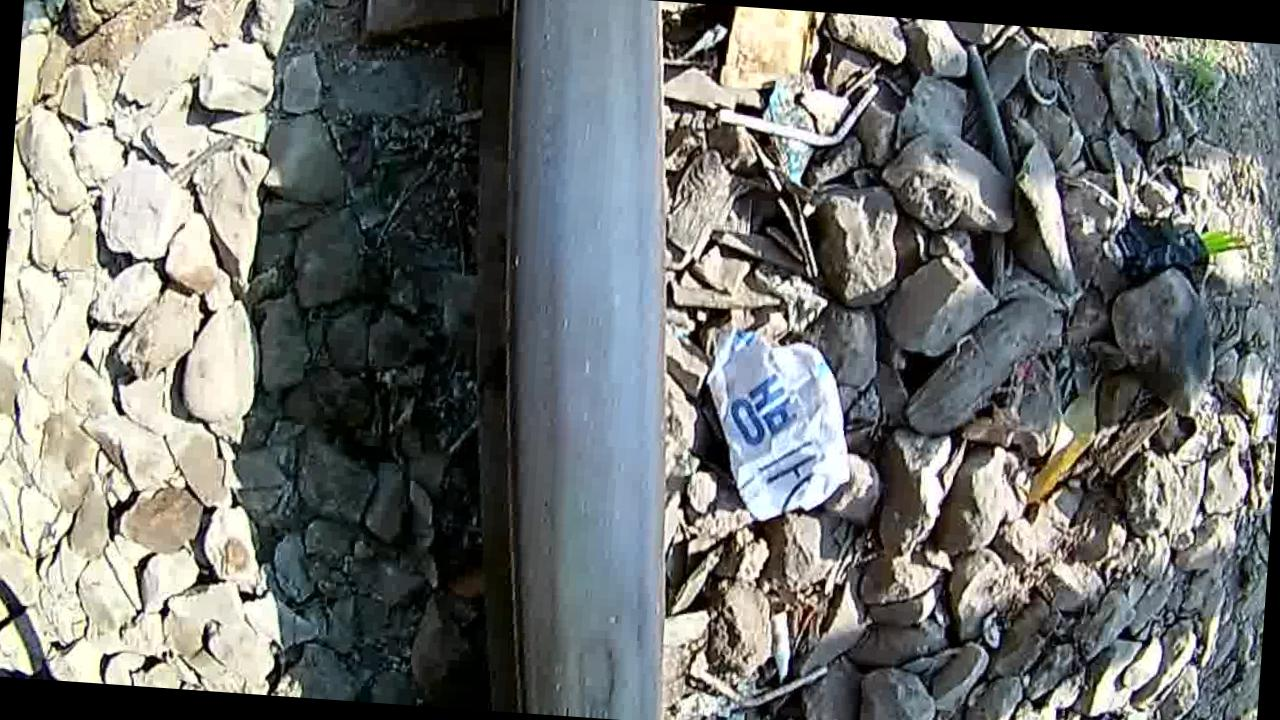bolt_missing: (507, 607, 664, 720)
